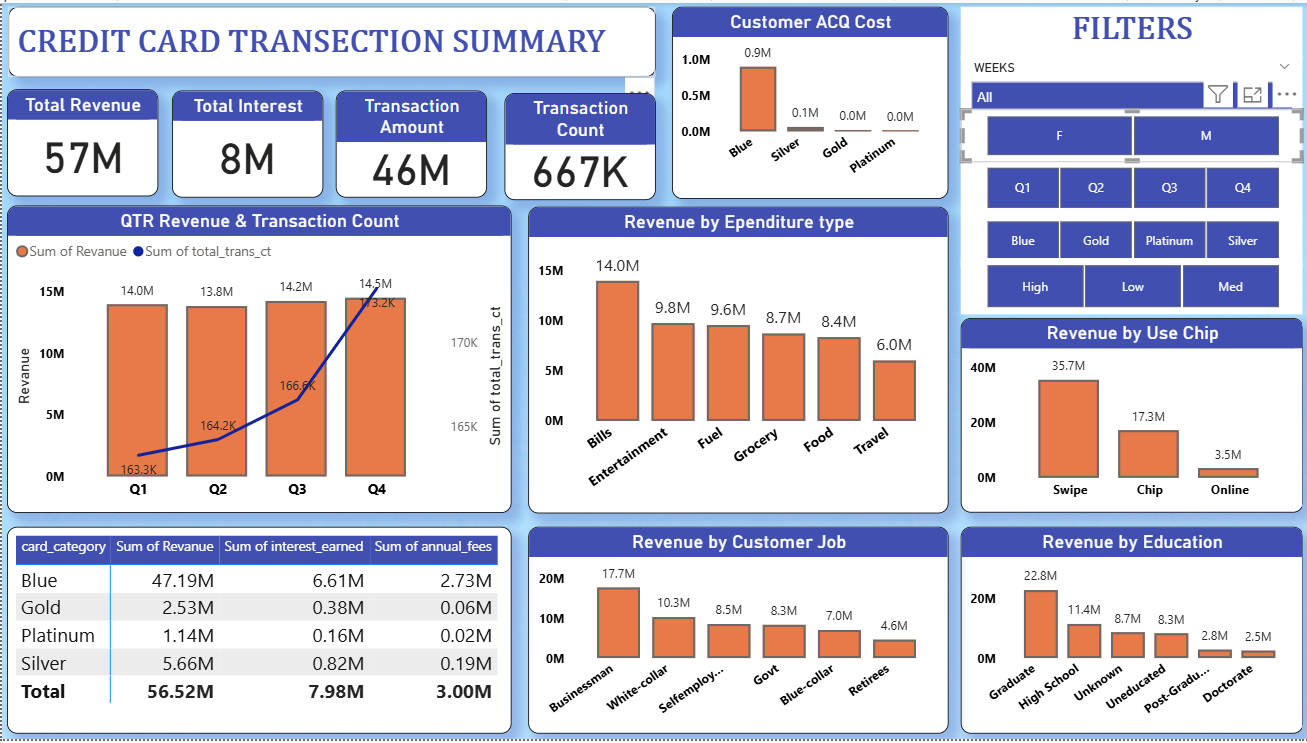

The dashboard page shown, as its layout file describes it:
{"tool":"powerbi","page":{"name":"CC Transaction Rep.","canvas":[1280,720],"ordinal":0},"visuals":[{"type":"textbox","box":[6.1,3.7,633.4,68.5],"z":0},{"type":"card","title":"Total Revenue","fields":{"Values":["Sum(public cc_detail.Revanue)"]},"box":[4.3,84.6,147.7,104.7],"z":1000},{"type":"card","title":"Total Interest","fields":{"Values":["Sum(public cc_detail.interest_earned)"]},"box":[166.3,86,147.7,104.7],"z":2000},{"type":"card","title":"Transaction Amount","fields":{"Values":["Sum(public cc_detail.total_trans_amt)"]},"box":[326.9,86,147.7,104.7],"z":3000},{"type":"card","title":"Transaction Count","fields":{"Values":["Sum(public cc_detail.total_trans_ct)"]},"box":[491.8,87.5,147.7,104.7],"z":4000},{"type":"columnChart","title":"Revenue by Ependiture type","fields":{"Y":["Sum(public cc_detail.Revanue)"],"Category":["public cc_detail.exp_type"]},"box":[514.5,199,411.4,299.7],"z":5000},{"type":"columnChart","title":"Revenue by Education","fields":{"Y":["Sum(public cc_detail.Revanue)"],"Category":["public cust_detail.education_level"]},"box":[938,512.1,334.9,202.7],"z":6000},{"type":"columnChart","title":"Revenue by Customer Job","fields":{"Y":["Sum(public cc_detail.Revanue)"],"Category":["public cust_detail.customer_job"]},"box":[514.5,512.1,411.4,202.7],"z":7000},{"type":"columnChart","title":"Revenue by Use Chip","fields":{"Y":["Sum(public cc_detail.Revanue)"],"Category":["public cc_detail.use_chip"]},"box":[938,308.2,334.9,190.5],"z":8000},{"type":"columnChart","title":"Customer ACQ Cost","fields":{"Category":["public cc_detail.card_category"],"Y":["Sum(public cc_detail.customer_acq_cost)"]},"box":[655.3,3.6,270.6,188.1],"z":9000},{"type":"lineStackedColumnComboChart","title":"QTR Revenue & Transaction Count","fields":{"Y":["Sum(public cc_detail.Revanue)"],"Category":["public cc_detail.qtr"],"Y2":["Sum(public cc_detail.total_trans_ct)"]},"box":[4.9,197.8,493.9,300.9],"z":10000},{"type":"pivotTable","fields":{"Rows":["public cc_detail.card_category"],"Values":["Sum(public cc_detail.Revanue)","Sum(public cc_detail.interest_earned)","Sum(public cc_detail.annual_fees)"]},"box":[4.9,512.1,493.9,202.7],"z":11000},{"type":"slicer","fields":{"Values":["public cc_detail.card_category"]},"box":[937.6,206.2,334.9,52],"z":12000},{"type":"slicer","fields":{"Values":["public cust_detail.gender"]},"box":[937.6,103.7,334.9,52],"z":13000},{"type":"slicer","fields":{"Values":["public cc_detail.week_num"]},"box":[937.4,51.7,334.9,54.6],"z":14000},{"type":"slicer","fields":{"Values":["public cust_detail.IncomeGroup"]},"box":[937.6,249.5,334.9,54.8],"z":15000},{"type":"slicer","fields":{"Values":["public cc_detail.qtr"]},"box":[937.6,154.2,334.9,53.4],"z":16000},{"type":"textbox","box":[937.4,3.8,335.1,50.2],"z":17000}]}

Visuals, with their boxes in screenshot pixels (x1, y1, x2, y2), scaled from the page's 1280x720 canvas onto the 1307x743 screenshot:
textbox: left=6, top=4, right=653, bottom=75
"Total Revenue" card: left=4, top=87, right=155, bottom=195
"Total Interest" card: left=170, top=89, right=321, bottom=197
"Transaction Amount" card: left=334, top=89, right=485, bottom=197
"Transaction Count" card: left=502, top=90, right=653, bottom=198
"Revenue by Ependiture type" columnChart: left=525, top=205, right=945, bottom=515
"Revenue by Education" columnChart: left=958, top=528, right=1300, bottom=738
"Revenue by Customer Job" columnChart: left=525, top=528, right=945, bottom=738
"Revenue by Use Chip" columnChart: left=958, top=318, right=1300, bottom=515
"Customer ACQ Cost" columnChart: left=669, top=4, right=945, bottom=198
"QTR Revenue & Transaction Count" lineStackedColumnComboChart: left=5, top=204, right=509, bottom=515
pivotTable - public cc_detail.card_category x Sum(public cc_detail.Revanue): left=5, top=528, right=509, bottom=738
slicer - public cc_detail.card_category: left=957, top=213, right=1299, bottom=266
slicer - public cust_detail.gender: left=957, top=107, right=1299, bottom=161
slicer - public cc_detail.week_num: left=957, top=53, right=1299, bottom=110
slicer - public cust_detail.IncomeGroup: left=957, top=257, right=1299, bottom=314
slicer - public cc_detail.qtr: left=957, top=159, right=1299, bottom=214
textbox: left=957, top=4, right=1299, bottom=56
